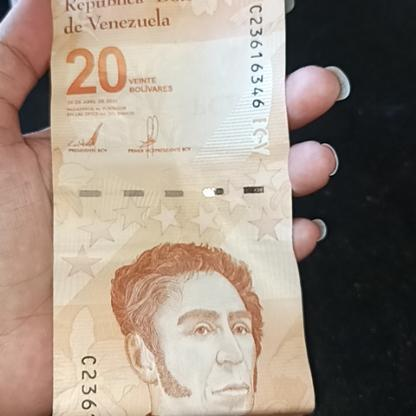vef_front: (48, 5, 318, 416)
